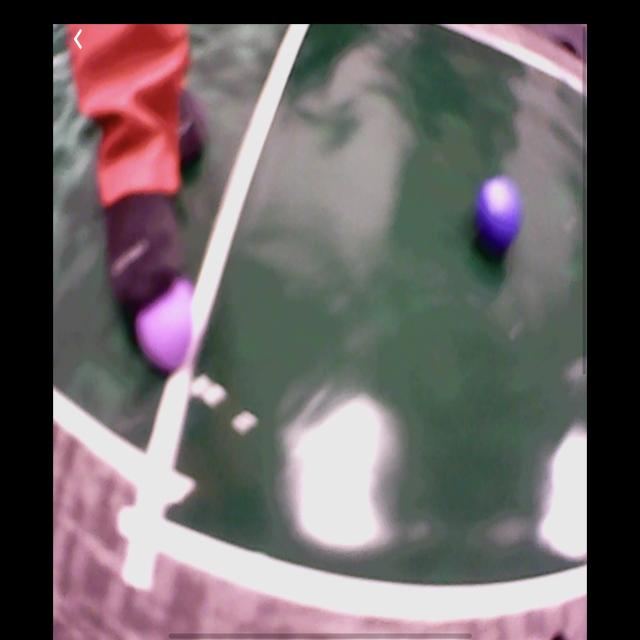ball: (137, 277, 196, 373), (477, 174, 523, 250)
